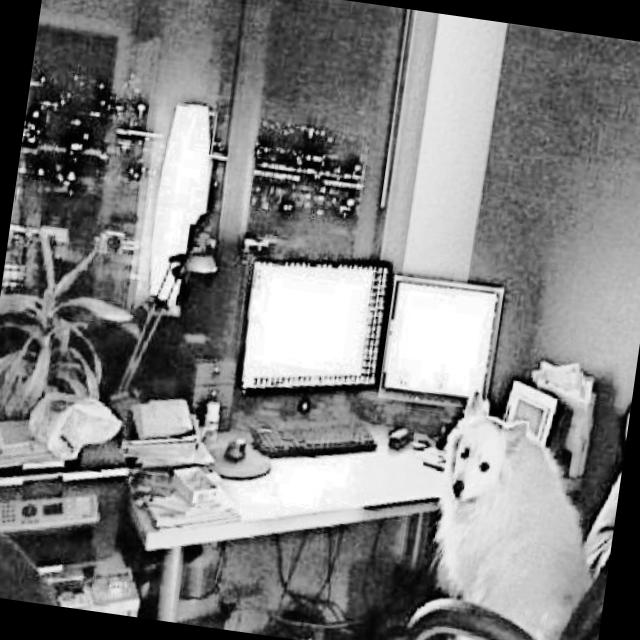Dog: (406, 387, 617, 640)
